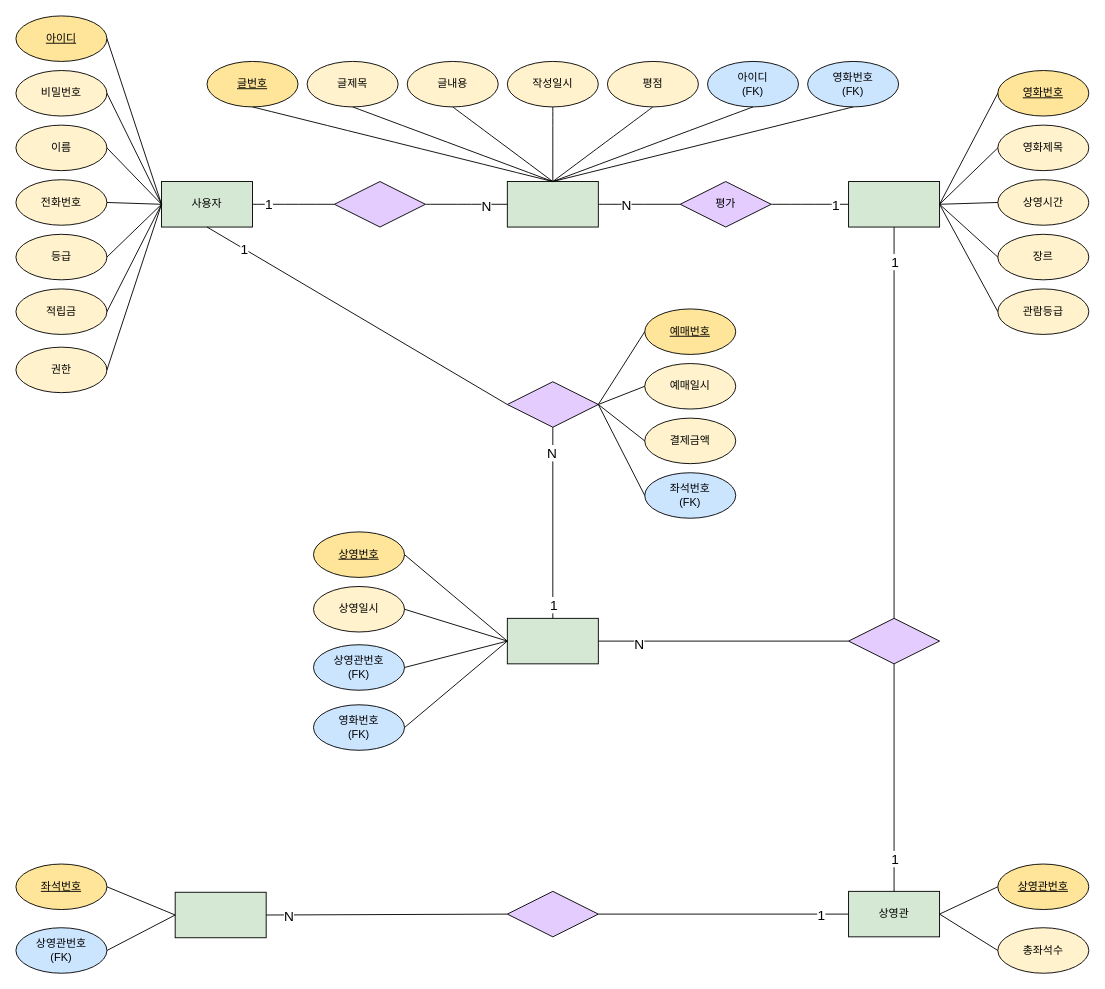
Some shapes in this 1105 by 989 pixel diagram are drawn without their labels. Here are the shapes that lost their labels. From the top down, the centre of each, then its label:
At point 379,204: "작성".
At point 552,204: "리뷰".
At point 894,204: "영화".
At point 552,404: "예매".
At point 552,640: "상영정보".
At point 894,640: "상영".
At point 220,914: "좌석".
At point 552,913: "배치".
